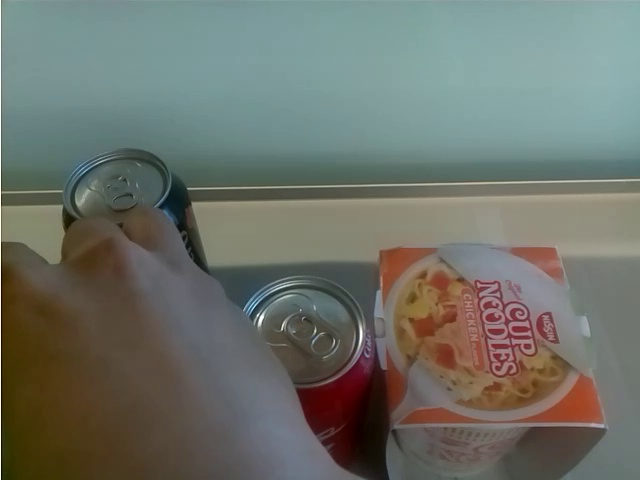cocacola: (248, 271, 372, 441)
cocacola-zero: (46, 147, 202, 212)
hand: (1, 206, 321, 480)
noodles: (376, 243, 612, 477)
